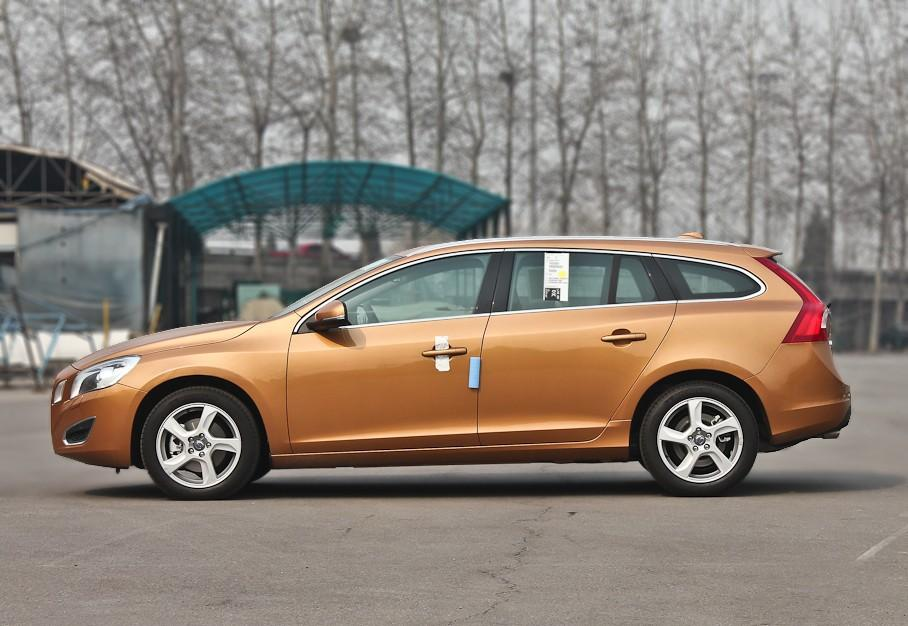Wagon: (49, 229, 853, 502)
